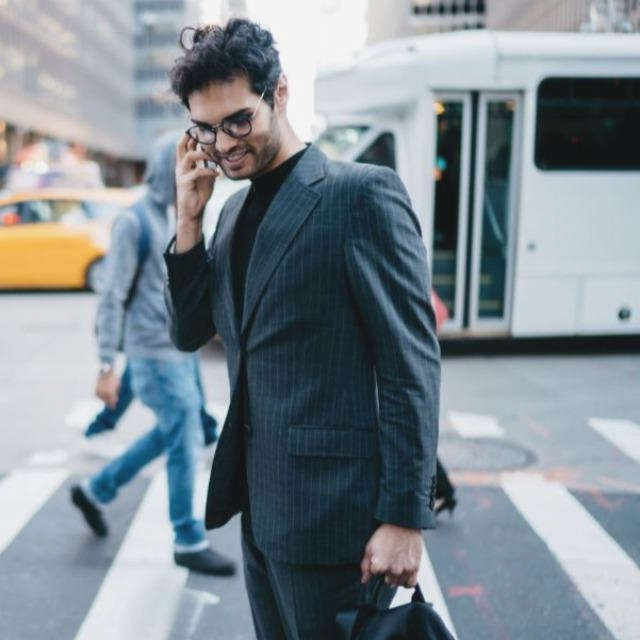Sin_Casco_Mascarrilla: (172, 19, 288, 181)
Sin_Chaleco: (215, 165, 420, 504)
